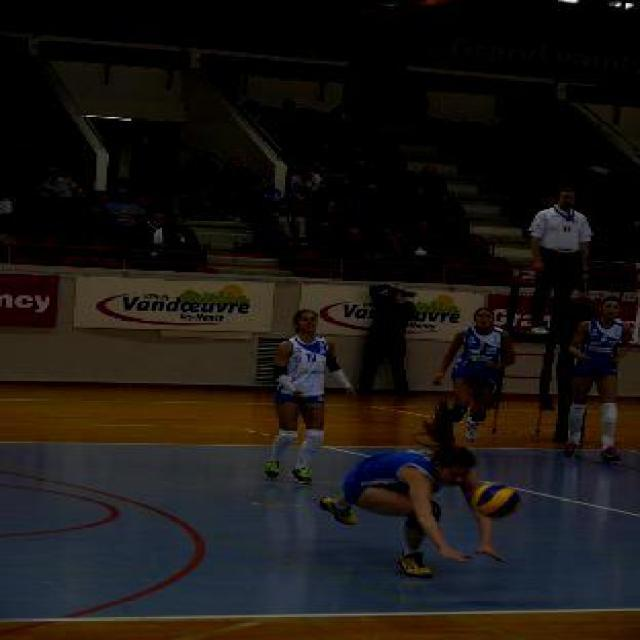volleyball: (471, 484, 521, 519)
